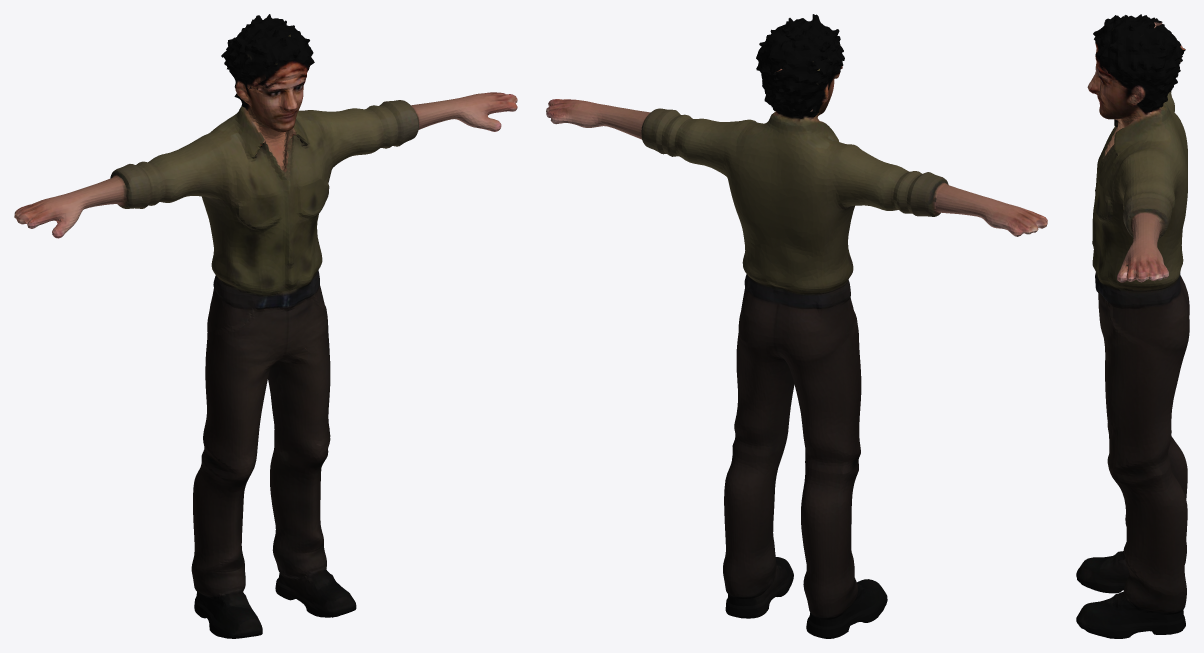
File: gazzar.glb
3 renders of one model, left to right at view 1: azimuth 30°, elevation 25°; view 2: azimuth 150°, elevation 25°; view 3: azimuth 270°, elevation 25°, orthographic.
Parts seen in each view (by area): view 1: tmpy6o9ftbf.ply; view 2: tmpy6o9ftbf.ply; view 3: tmpy6o9ftbf.ply.
Boxes of the visible parts, bbox=[...] form: tmpy6o9ftbf.ply: bbox=[14, 14, 517, 638]; tmpy6o9ftbf.ply: bbox=[546, 14, 1047, 638]; tmpy6o9ftbf.ply: bbox=[1076, 14, 1189, 638].
Size of the model in its own units: 1.75 by 1.99 by 0.3458.
Materials: 1 (1 with a texture image).
